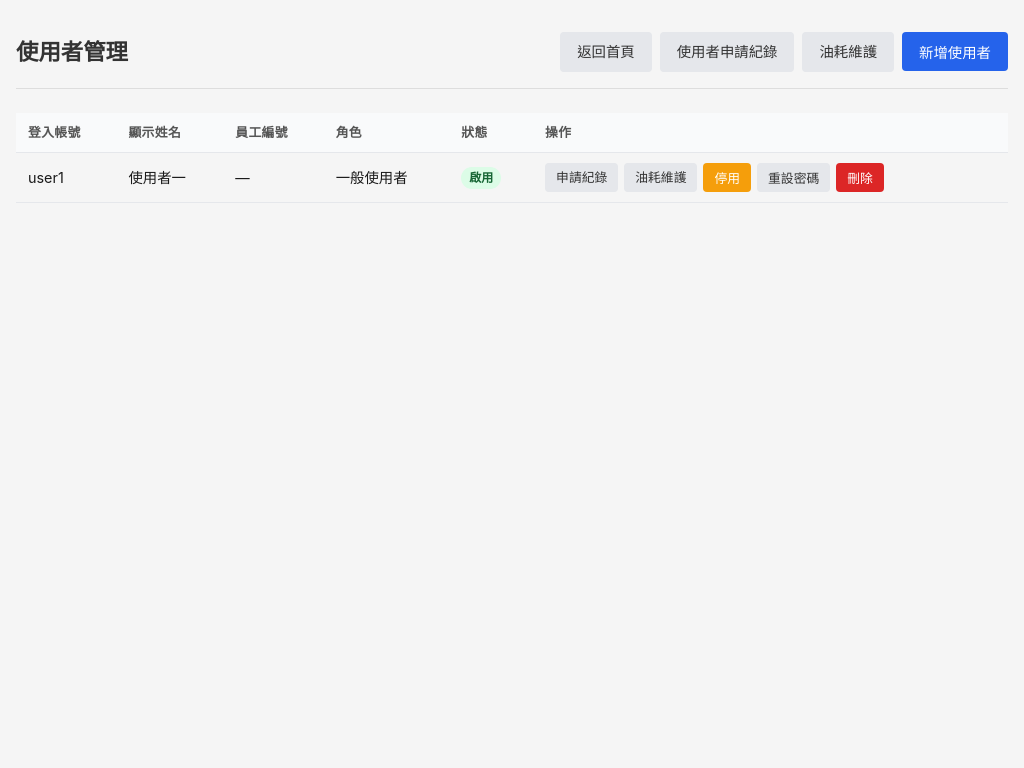
Scenario: AdminUsersPage › 刪除使用者：有歷史（409）→ 顯示「請改用停用」提示
Expected: the text "user1" is shown, top-left (16, 152), bottom-right (116, 203)
// Click delete button for user1
What coordinates should you click on to do the following:
click the button "刪除"
I would click on:
 (860, 177)
Its box is top-left (836, 163), bottom-right (884, 192).
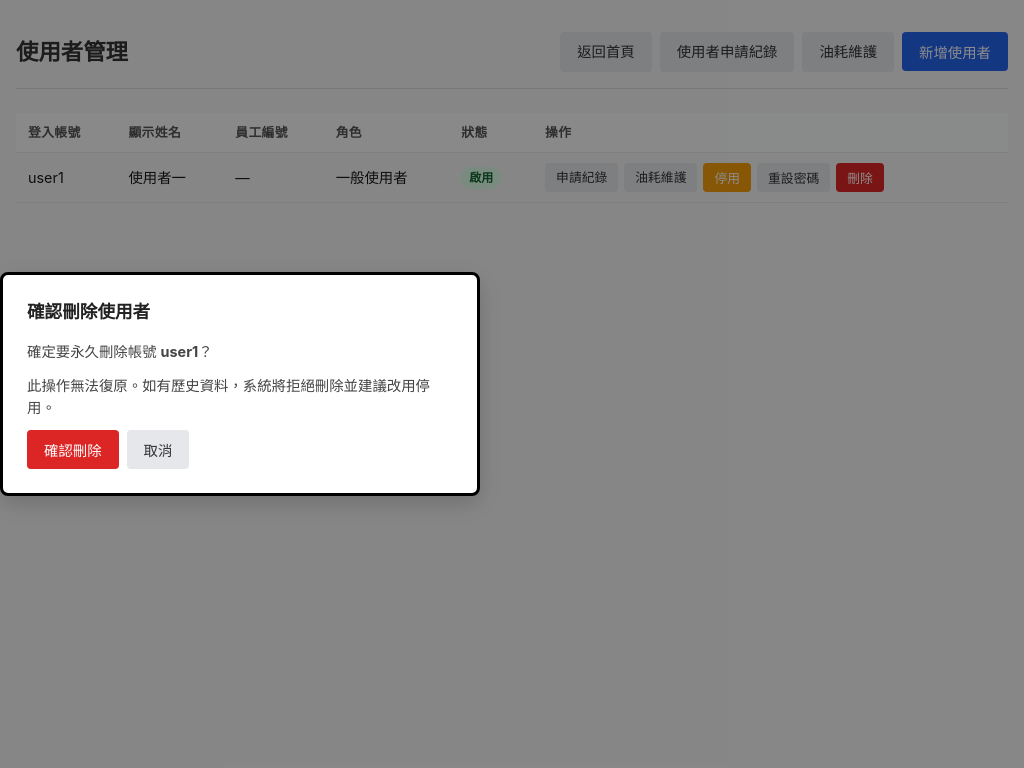
Expected: the heading "確認刪除使用者" is shown, top-left (27, 301), bottom-right (150, 322)
What coordinates should you click on to do the following:
click the button "確認刪除"
I would click on:
 (73, 450)
Its box is top-left (27, 430), bottom-right (119, 469).
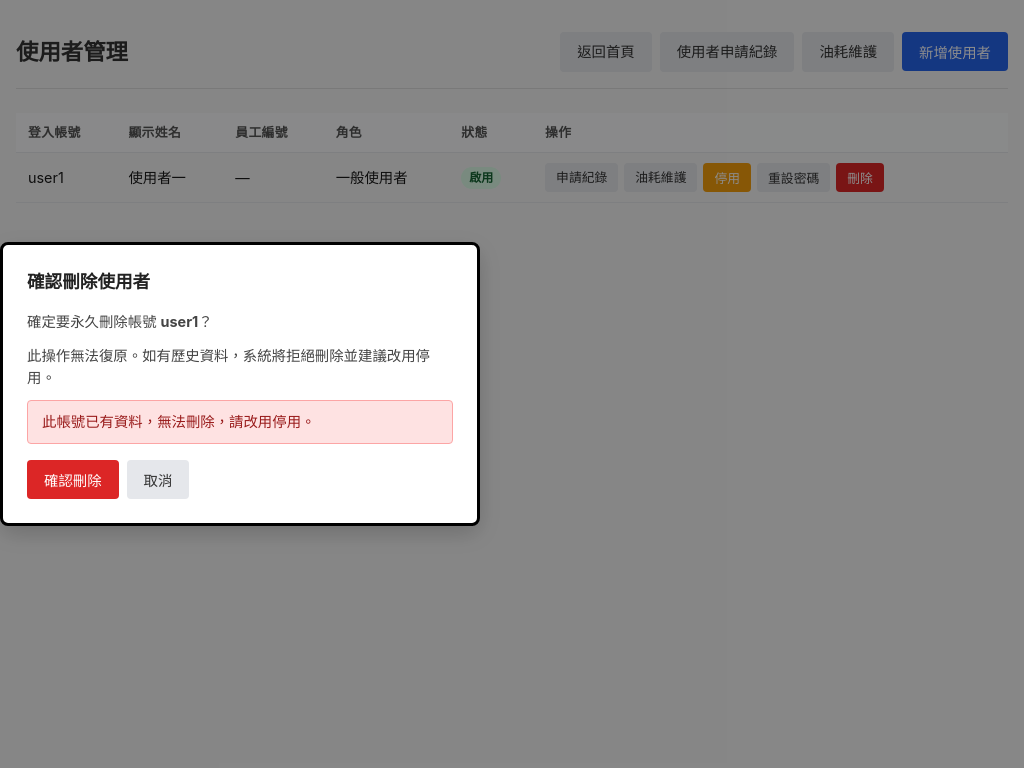
Expected: the text "此帳號已有資料，無法刪除，請改用停用。" is shown, top-left (27, 400), bottom-right (453, 444)
